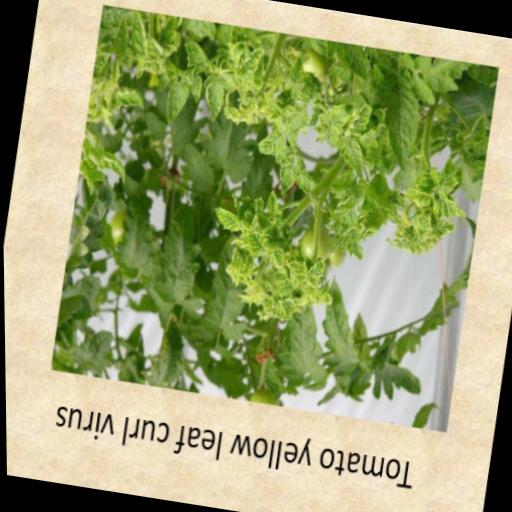Yellow Leaf Curl Virus: (197, 65, 230, 122), (232, 40, 266, 92), (314, 94, 352, 138), (160, 75, 190, 130), (332, 136, 368, 180), (426, 184, 469, 219), (274, 144, 300, 196), (205, 202, 246, 234), (250, 126, 284, 156), (111, 84, 145, 108), (283, 252, 307, 284), (304, 256, 325, 288), (240, 228, 265, 254), (300, 72, 319, 106), (261, 242, 284, 270)
